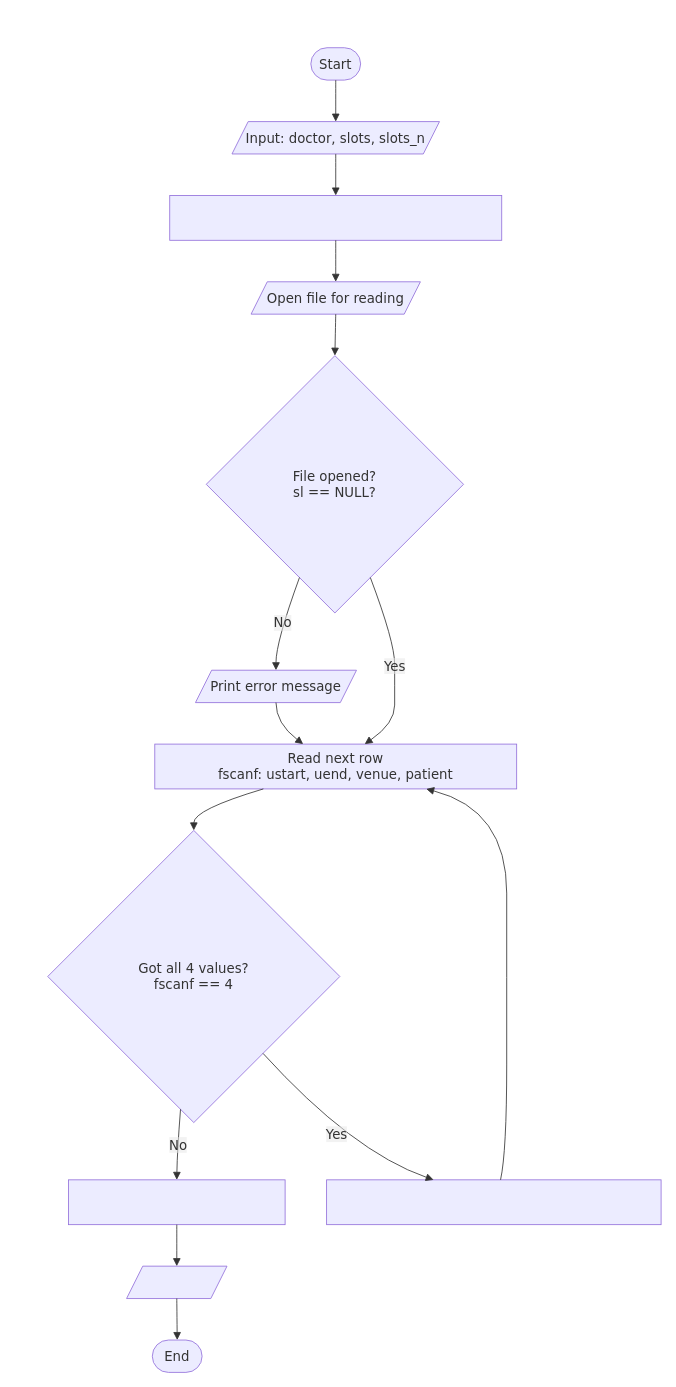
Image size: 676x1387. Some labels were removed from this diagram. The box of each missing label's shape, as (x1, y1, x2, y2) in pixels:
Build filepath ./users/doctor/bookings.csv.txt: (169, 195, 502, 240)
Close file: (126, 1265, 227, 1299)
Save slot count *slots_n = i: (68, 1179, 285, 1225)
Store slot data start, end, venue, patient i++: (326, 1179, 661, 1225)
